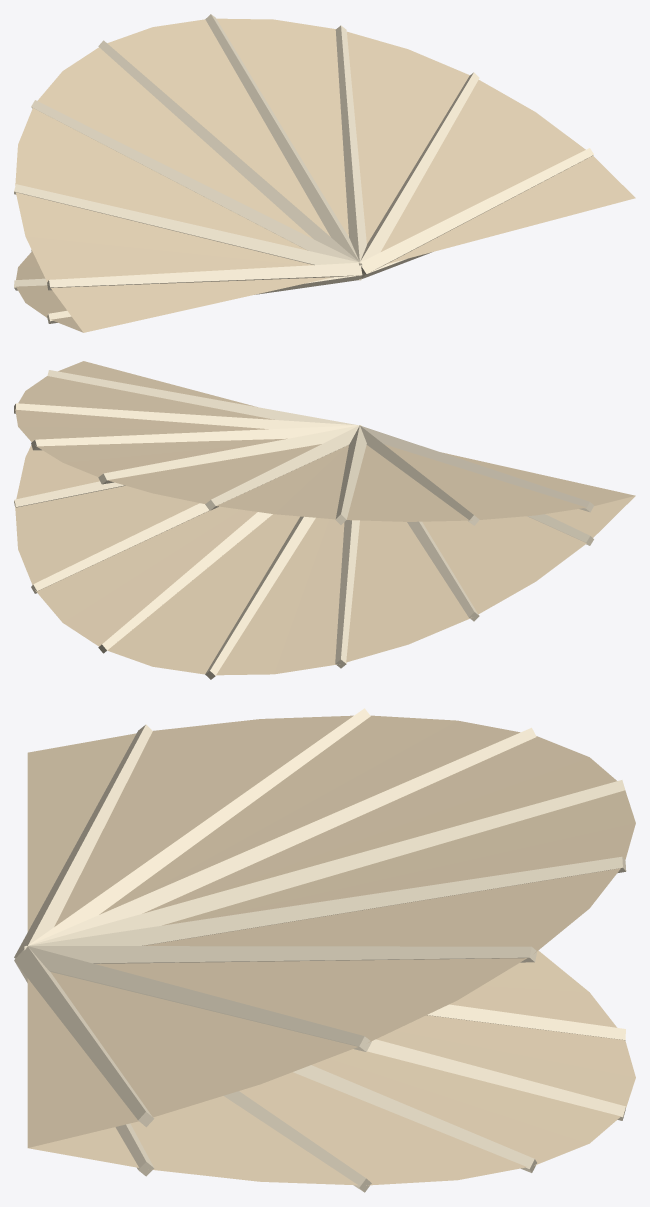
Rendered from Clam.fbx.
The picture shows the model from 3 angles, top to bottom: view 1: azimuth 30°, elevation 25°; view 2: azimuth 150°, elevation 25°; view 3: azimuth 270°, elevation 25°; orthographic projection. The views are drawn at different scales.
Visible parts, largest first — view 1: Shell1, Ridge1_5, Ridge1_3, Ridge1_9, Ridge1_1, Ridge1_7, Ridge1_11, Ridge1_15, Ridge1_13, Shell-1, Ridge-1_1; view 2: Shell-1, Shell1, Ridge1_11, Ridge1_13, Ridge1_9, Ridge1_15, Ridge-1_7, Ridge-1_9, Ridge1_1, Ridge-1_5, Ridge-1_11, Ridge1_7 (+5 smaller); view 3: Shell1, Shell-1, Ridge1_9, Ridge1_7, Ridge1_11, Ridge1_5, Ridge1_13, Ridge1_3, Ridge1_1, Ridge1_15, Ridge-1_9, Ridge-1_11 (+3 smaller).
Part boxes in pixels (x1,y1,x2,y2): Shell1: (15,18,635,332); Ridge1_5: (31,100,361,265); Ridge1_3: (14,184,360,266); Ridge1_9: (205,14,361,265); Ridge1_1: (47,262,362,290); Ridge1_7: (98,40,361,265); Ridge1_11: (335,25,366,265); Ridge1_15: (360,148,593,273); Ridge1_13: (359,72,479,265); Shell-1: (16,251,83,332); Ridge-1_1: (47,275,361,323); Shell-1: (15,445,635,675); Shell1: (15,361,635,521); Ridge1_11: (31,425,361,450); Ridge1_13: (14,403,361,429); Ridge1_9: (98,425,360,484); Ridge1_15: (47,370,357,425); Ridge-1_7: (205,516,315,679); Ridge-1_9: (98,512,272,653); Ridge1_1: (360,425,593,512); Ridge-1_5: (335,520,359,668); Ridge-1_11: (31,503,209,593); Ridge1_7: (205,425,359,510); Shell1: (27,715,635,1147); Shell-1: (28,950,635,1185); Ridge1_9: (24,856,626,949); Ridge1_7: (24,780,625,949); Ridge1_11: (24,946,537,963); Ridge1_5: (25,727,536,948); Ridge1_13: (23,945,371,1051); Ridge1_3: (26,708,370,948); Ridge1_1: (14,724,152,957); Ridge1_15: (14,946,154,1127); Ridge-1_9: (367,1039,625,1120); Ridge-1_11: (293,1065,536,1172).
Size of the model in its own units: 0.2 by 0.0624 by 0.1329.
